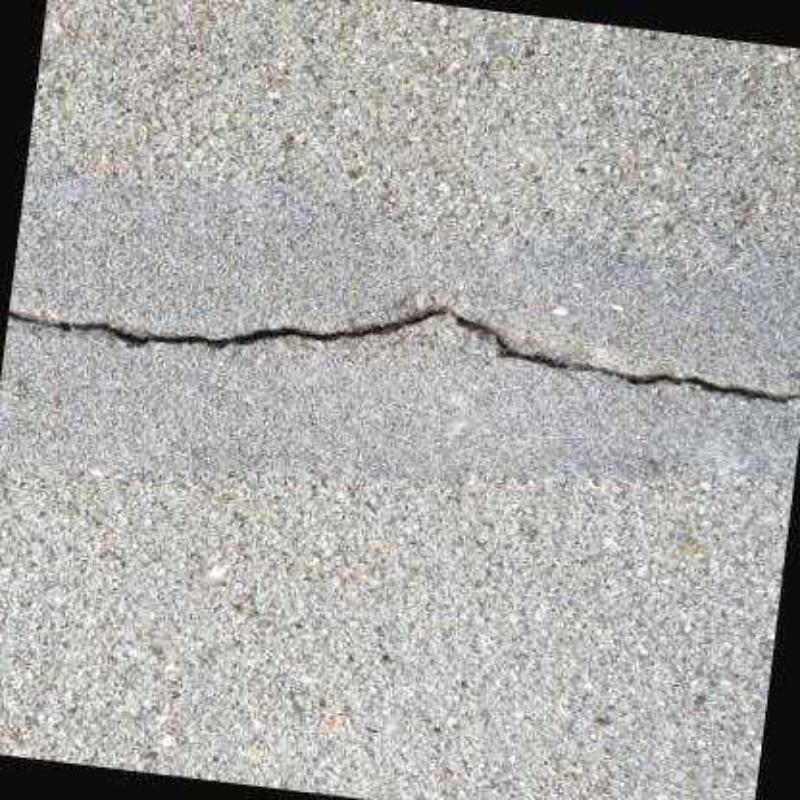pothole: (8, 306, 798, 402)
